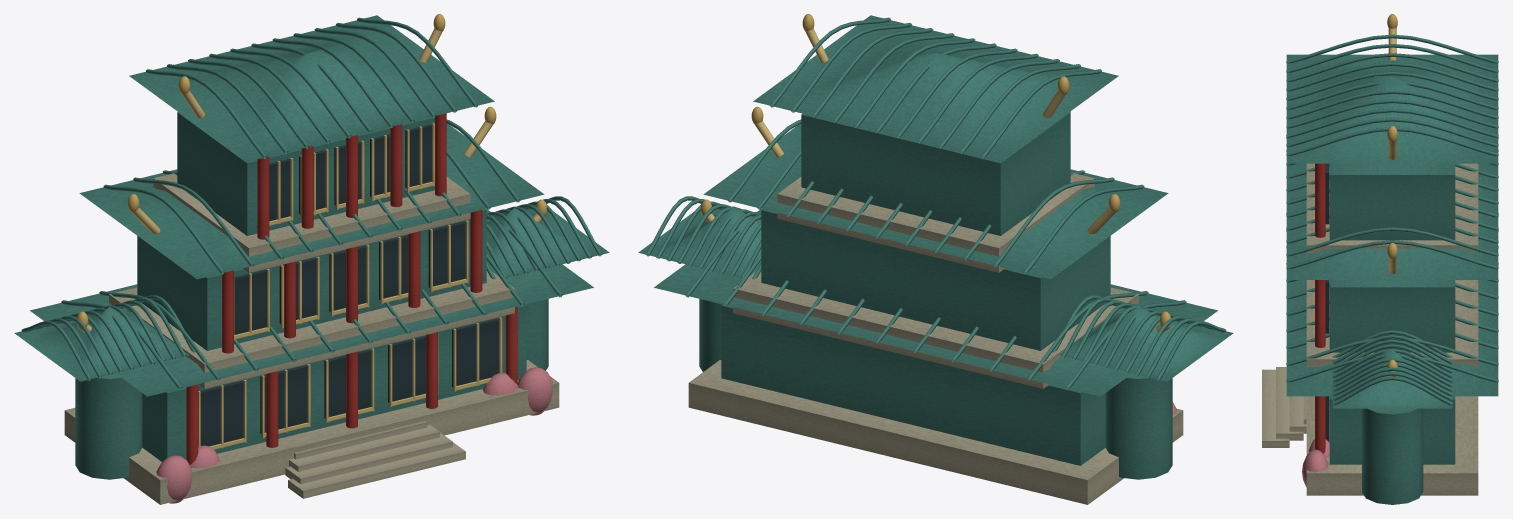
File: dragon_palace.glb
3 views of the same model, side by side, from view 1: azimuth 30°, elevation 25°; view 2: azimuth 150°, elevation 25°; view 3: azimuth 270°, elevation 25° (orthographic). The views are drawn at different scales.
Parts seen in each view (by area): view 1: static_ornament; view 2: static_ornament; view 3: static_ornament.
Part boxes in pixels (left/top/right/bottom): static_ornament: left=14, top=14, right=609, bottom=504; static_ornament: left=638, top=14, right=1233, bottom=504; static_ornament: left=1262, top=14, right=1498, bottom=504.
Size of the model in its own units: 3.58 by 2.47 by 1.54.
Materials: 1 (1 with a texture image).
